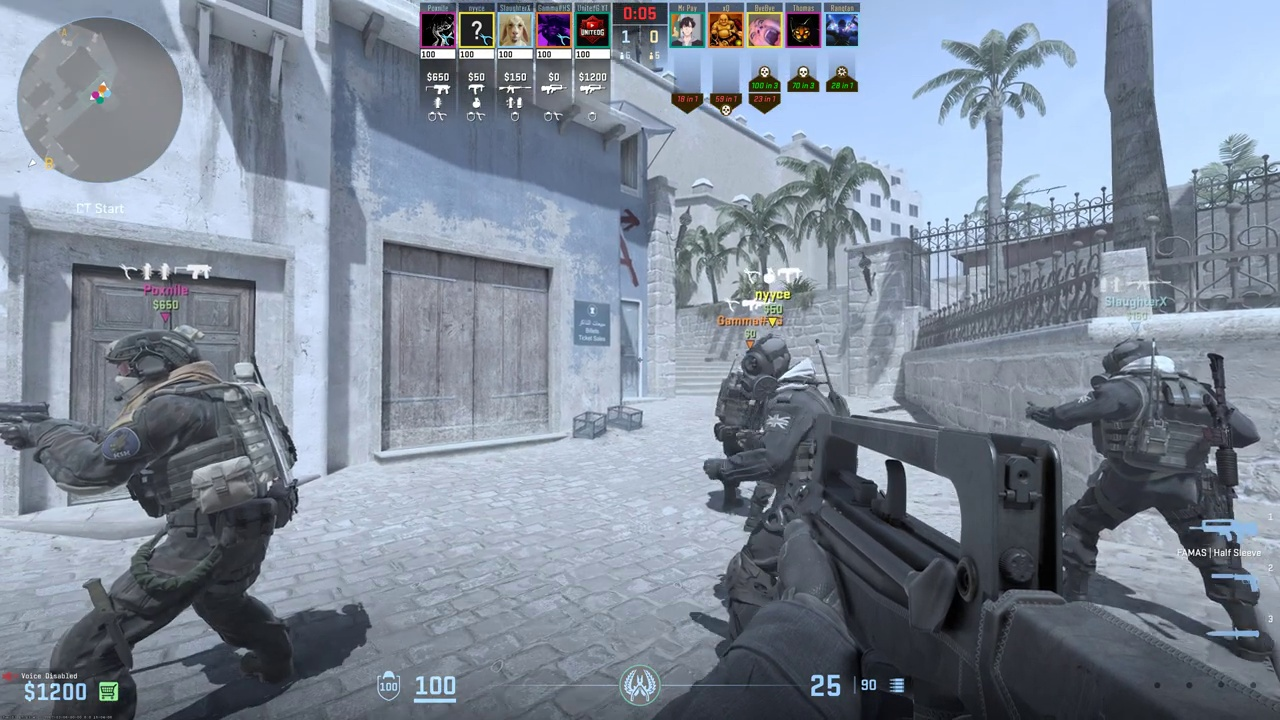CT: (35, 326, 291, 716), (1044, 341, 1267, 654), (713, 337, 842, 633)
